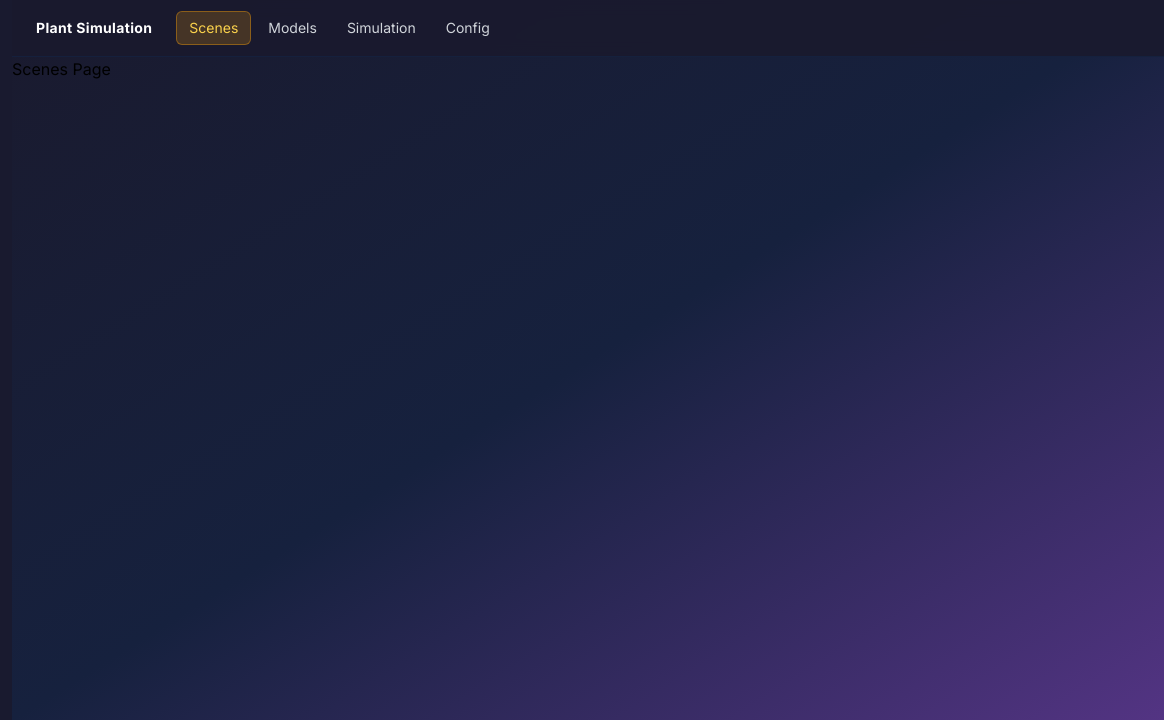
Test: AppNavBar › shouldNavigateToTargetRoutesWhenClickingNavItems
Click the link "Models" at (293, 28), box 268,19 -> 317,36
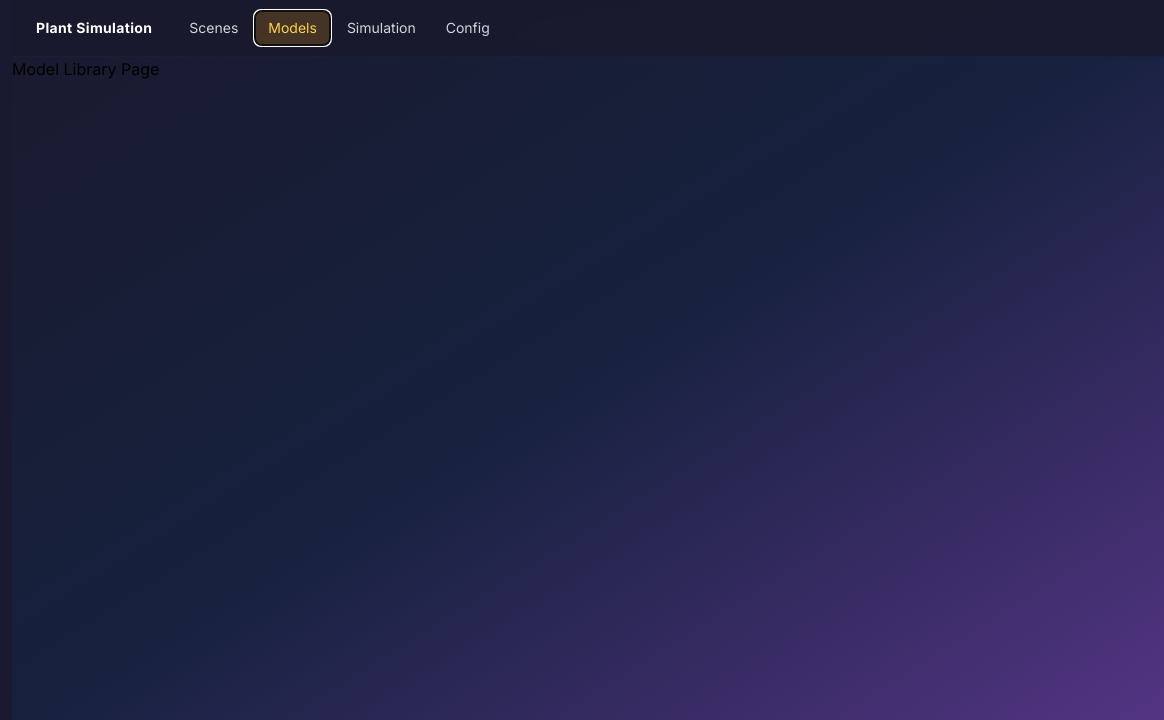
Check: the text "Model Library Page" is shown, box 12,59 -> 159,79
Click the link "Config" at (468, 28), box 446,19 -> 490,36
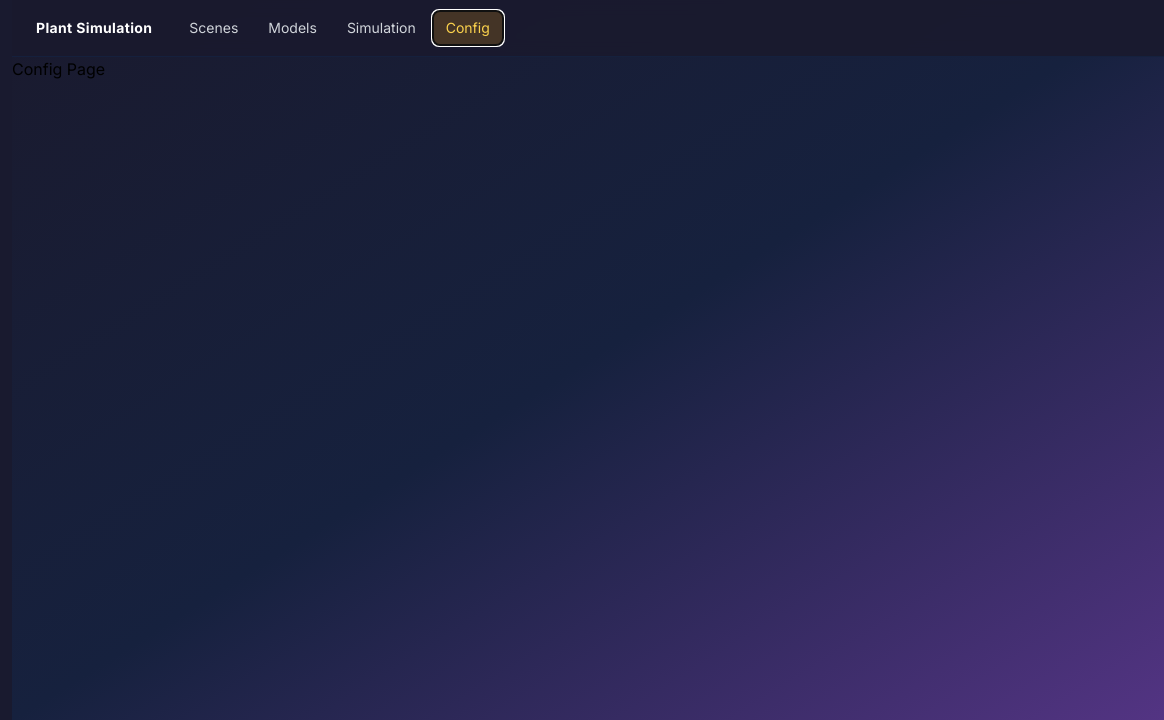
Check: the text "Config Page" is shown, box 12,59 -> 105,79
